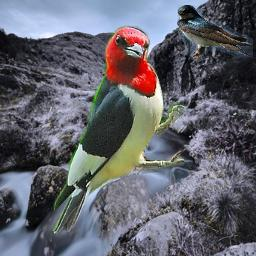Swallow: (177, 5, 253, 60)
Woodpecker: (47, 25, 184, 234)
